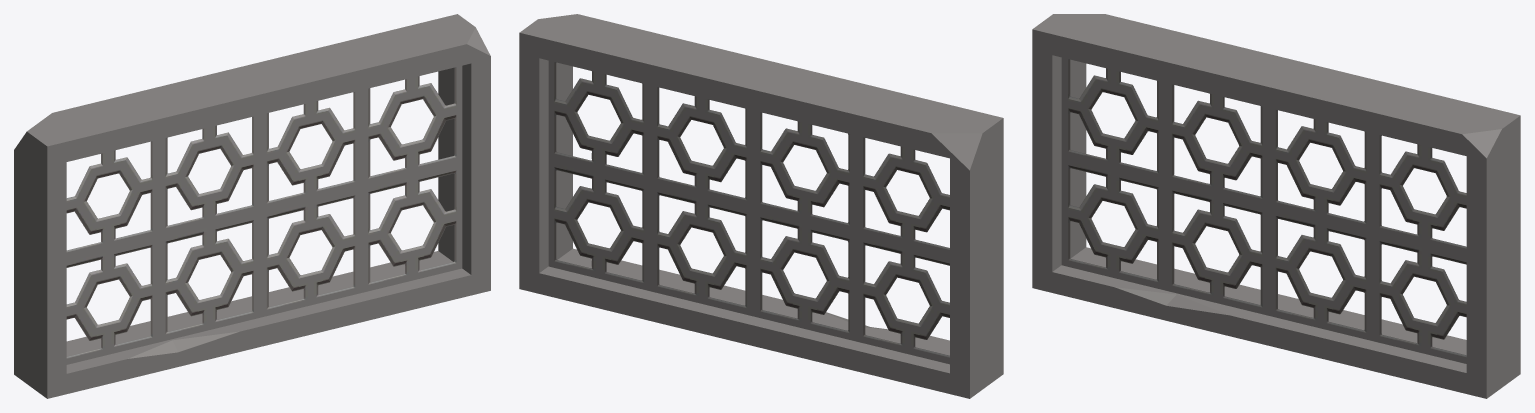
Rendered from SM_Bld_Decorative_Block_04.glb.
3 views of the same model, side by side, from view 1: azimuth 30°, elevation 25°; view 2: azimuth 150°, elevation 25°; view 3: azimuth 330°, elevation 25° (orthographic). The views are drawn at different scales.
Parts seen in each view (by area): view 1: SM_Bld_Decorative_Block_04; view 2: SM_Bld_Decorative_Block_04; view 3: SM_Bld_Decorative_Block_04.
Part boxes in pixels (<box>): SM_Bld_Decorative_Block_04: <box>14,14,490,398</box>; SM_Bld_Decorative_Block_04: <box>519,14,1003,398</box>; SM_Bld_Decorative_Block_04: <box>1032,14,1520,398</box>.
Size of the model in its own units: 1.82 by 0.9898 by 0.2356.
1 material, 1 textured.
